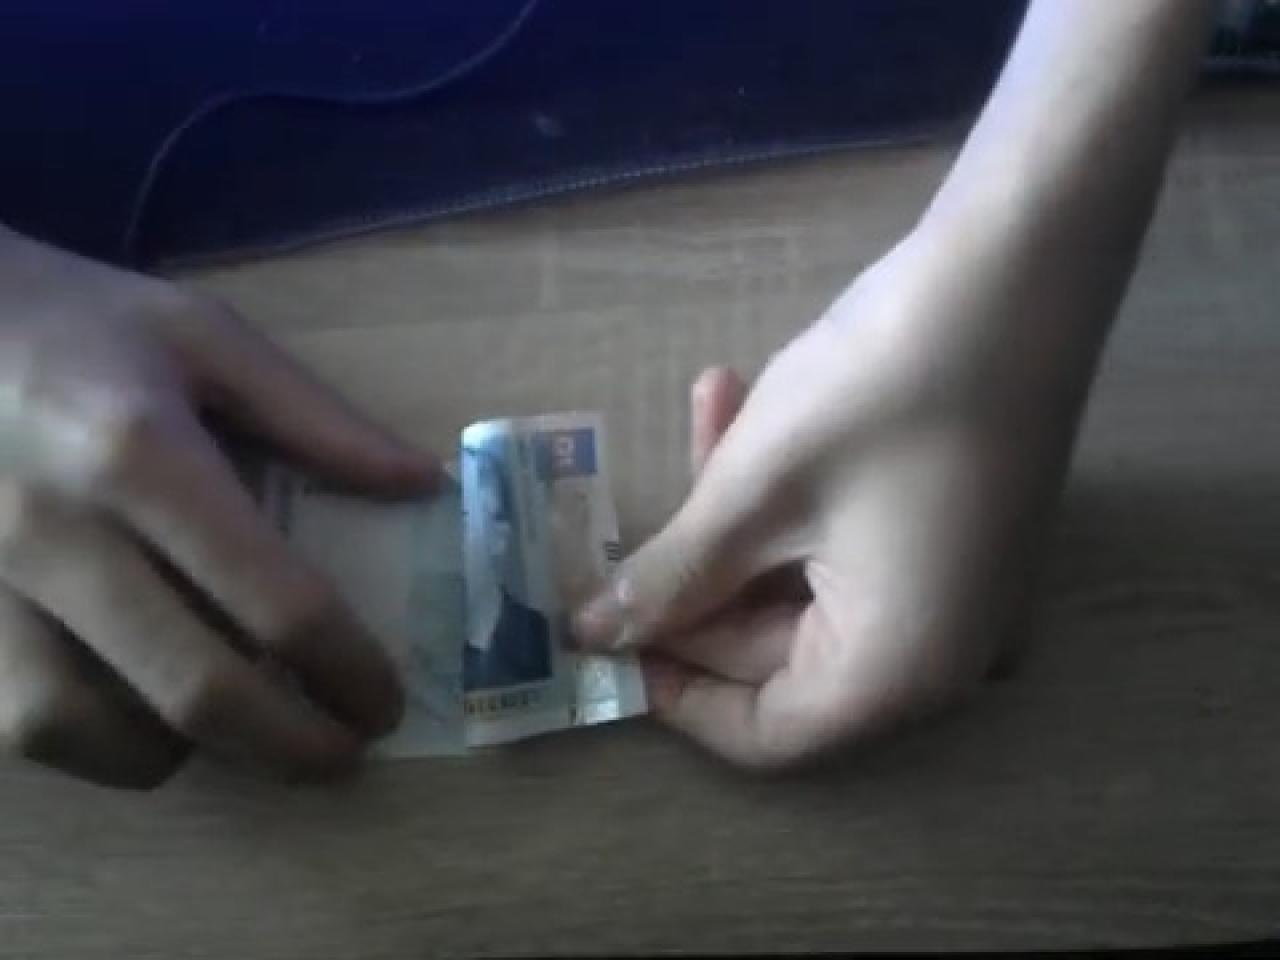20leva: (456, 405, 656, 749)
